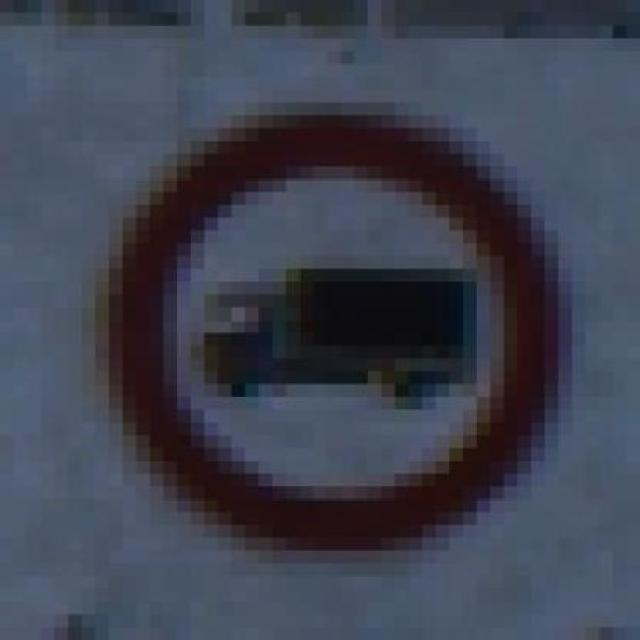Truck traffic is prohibited: (68, 89, 572, 551)
